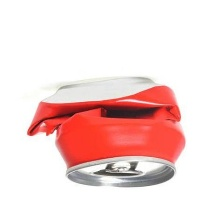can: (14, 70, 191, 196)
